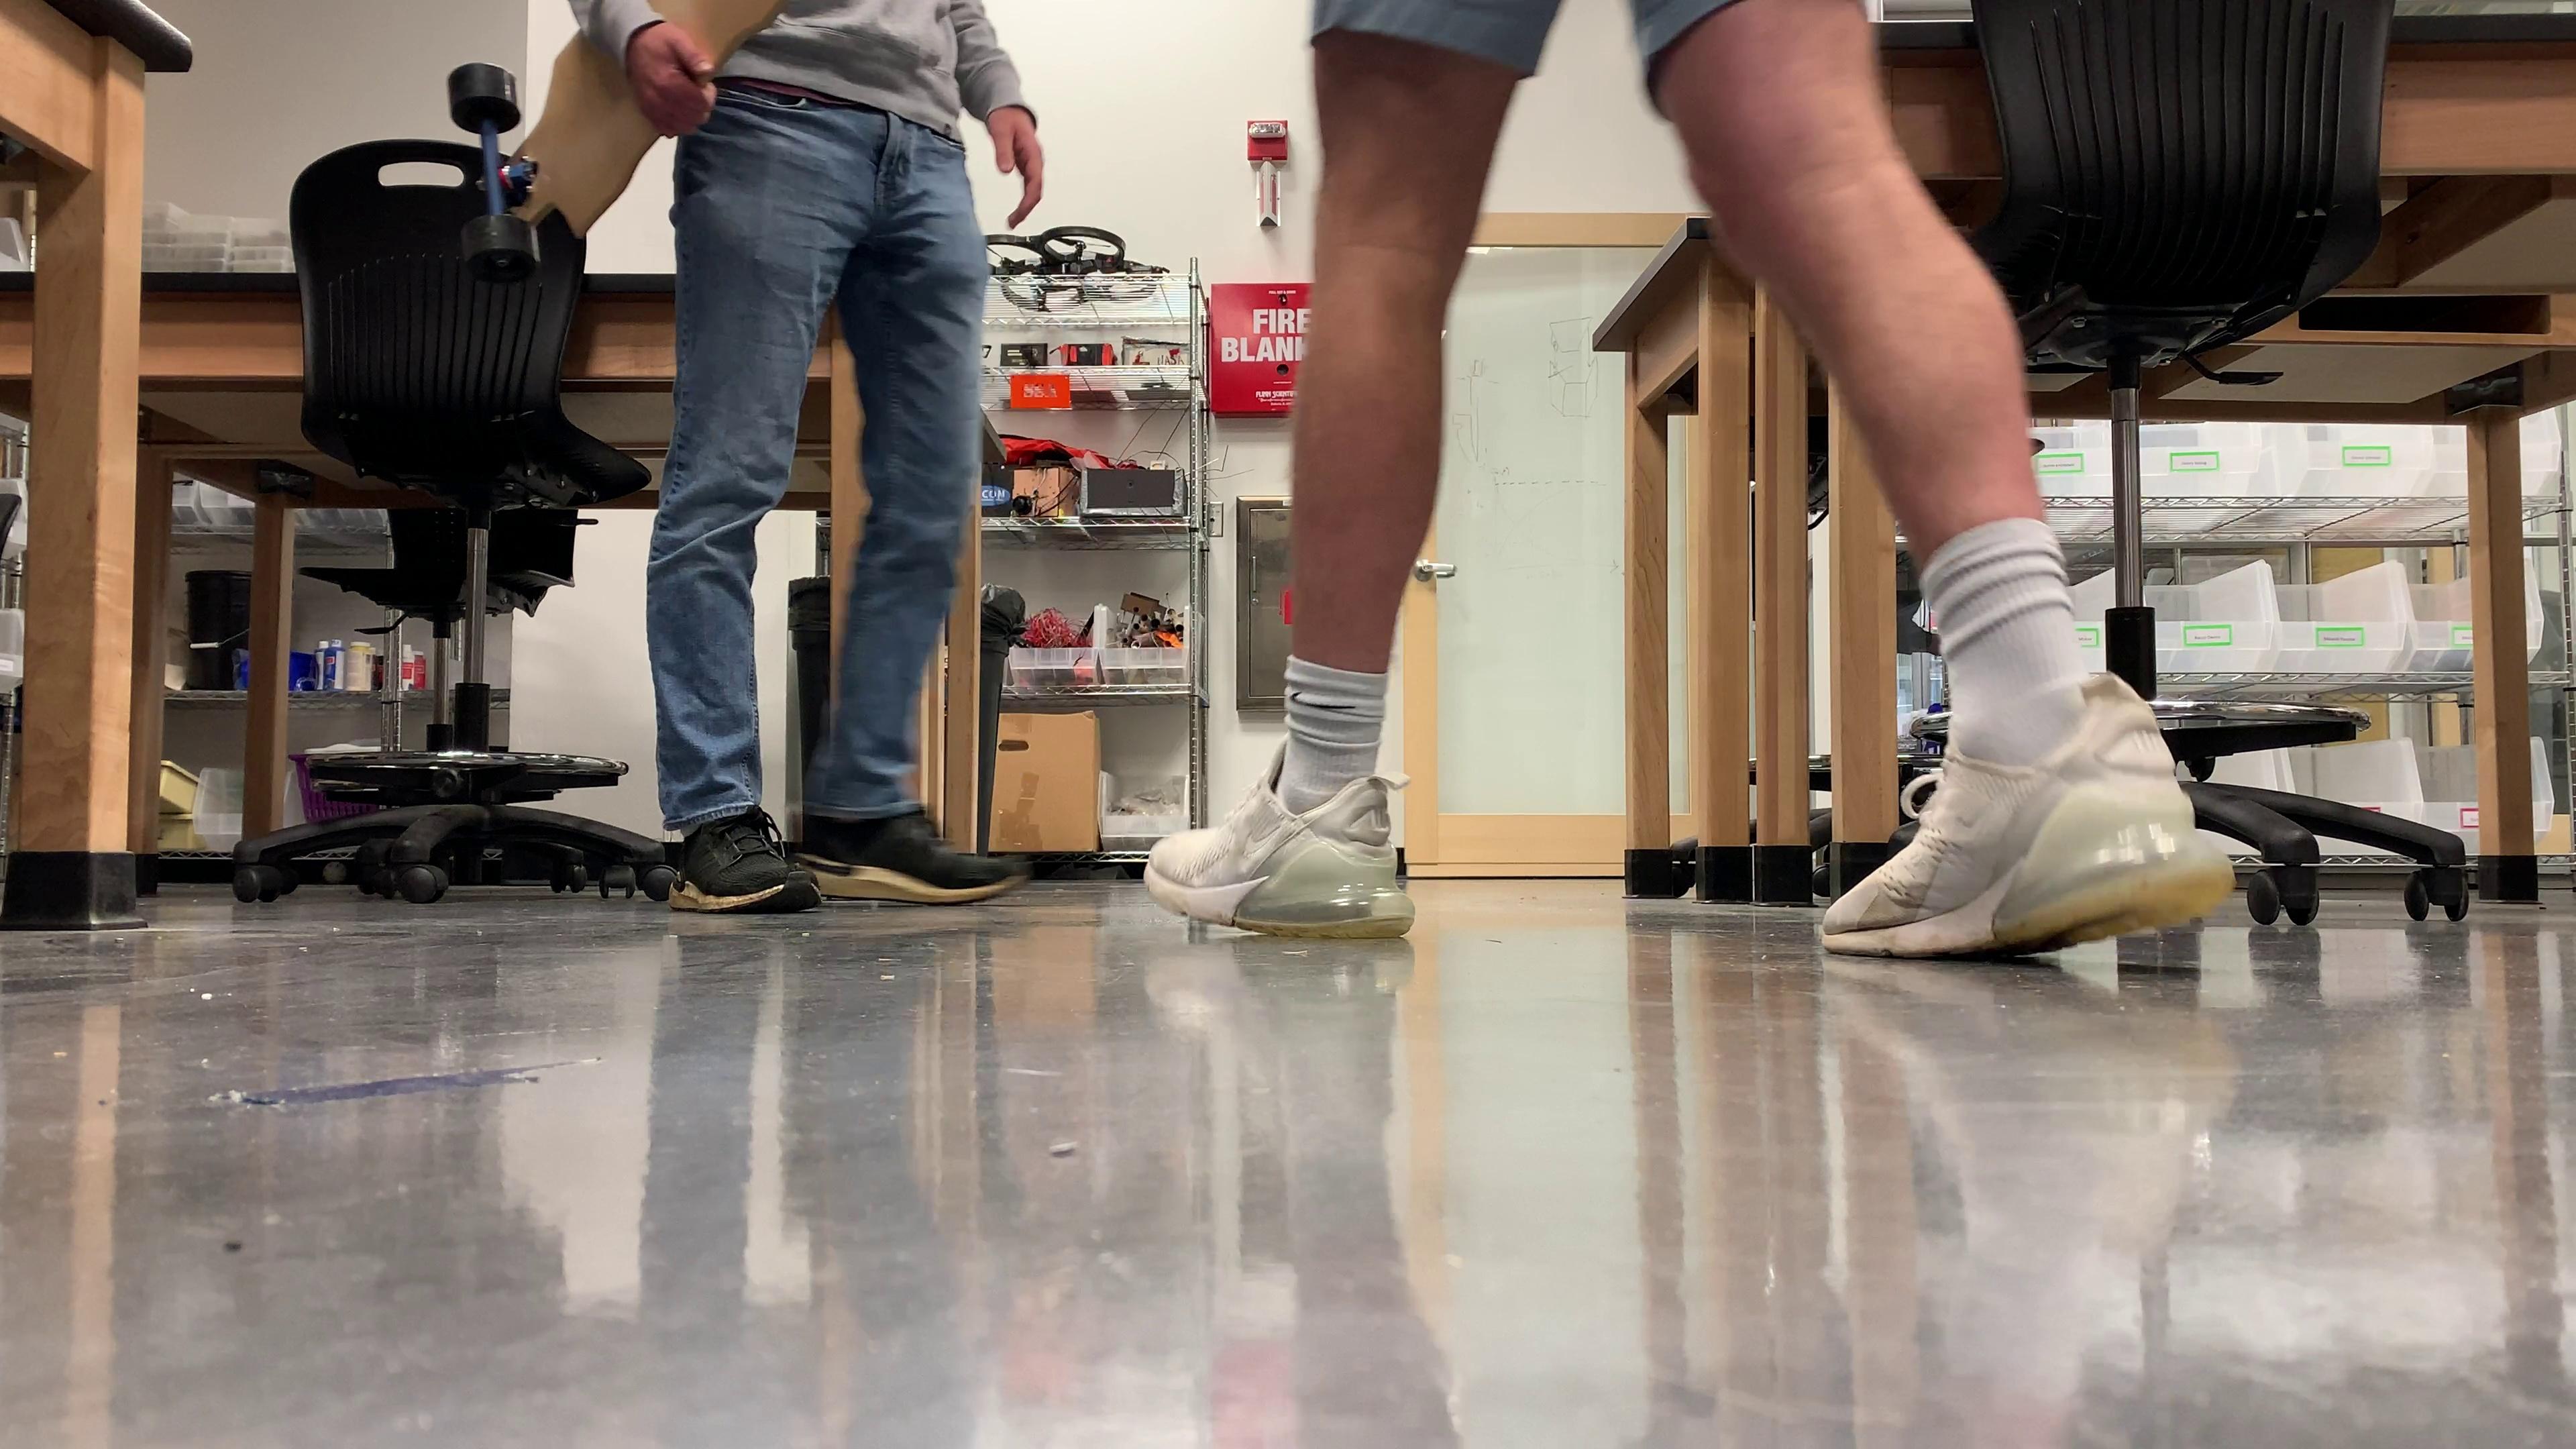shoe: (1819, 674, 2235, 952), (1143, 736, 1415, 941), (794, 809, 1021, 906), (663, 810, 814, 916)
